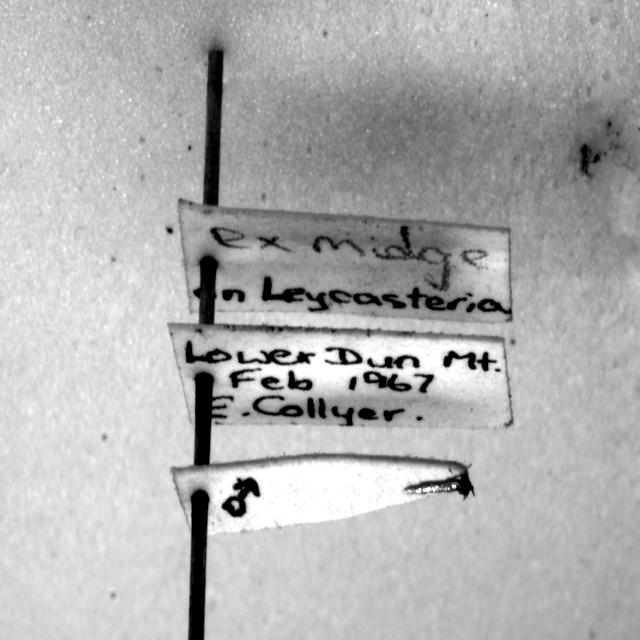hand_label: (179, 199, 511, 322), (169, 324, 512, 428)
